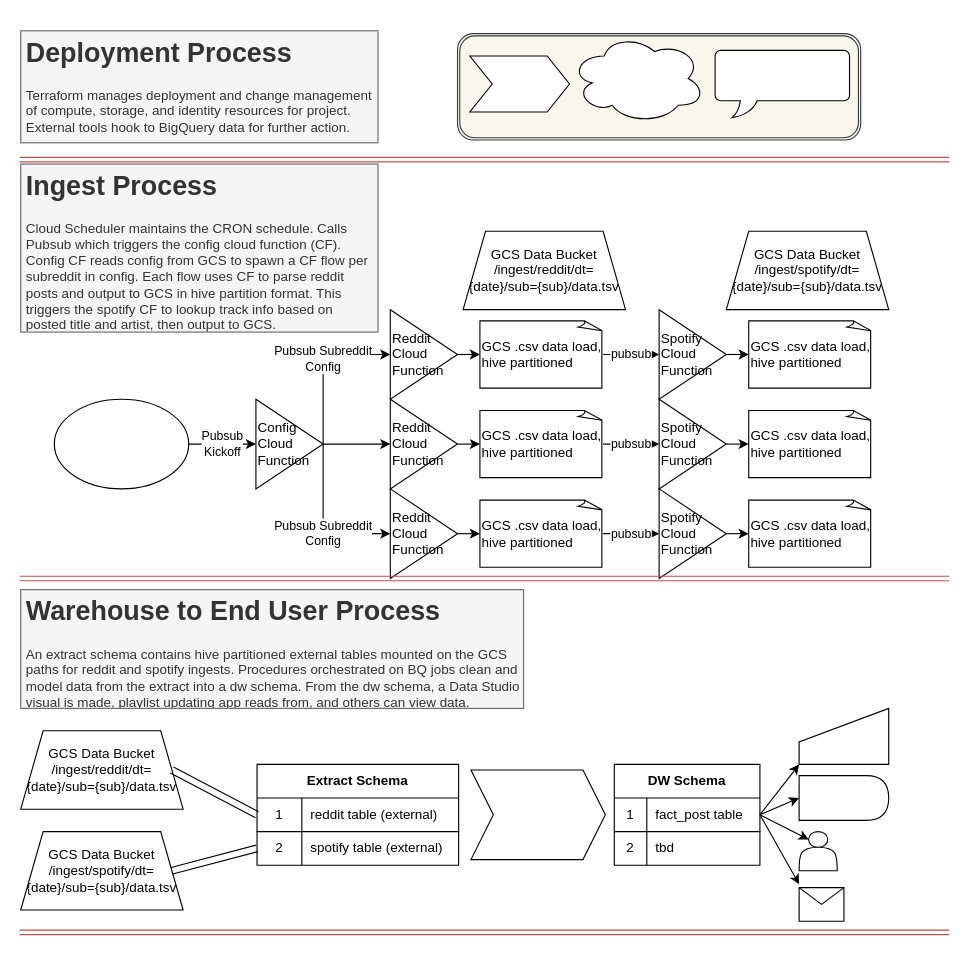
Some shapes in this 969 by 954 pixel diagram are drawn without their labels. The shapes that lost their labels are listed below. From the top down, each one's centre as x and y in pixels, then its label:
the point at 519,83: Terraform Build (local)
the point at 637,77: GCP Cloud Build
the point at 782,83: External Connections to Data
the point at 121,443: Cloud Scheduler
the point at 843,735: Data Studio visual
the point at 537,814: BQ Orchestrated Jobs (Sprocs)
the point at 843,797: Playlist Update
